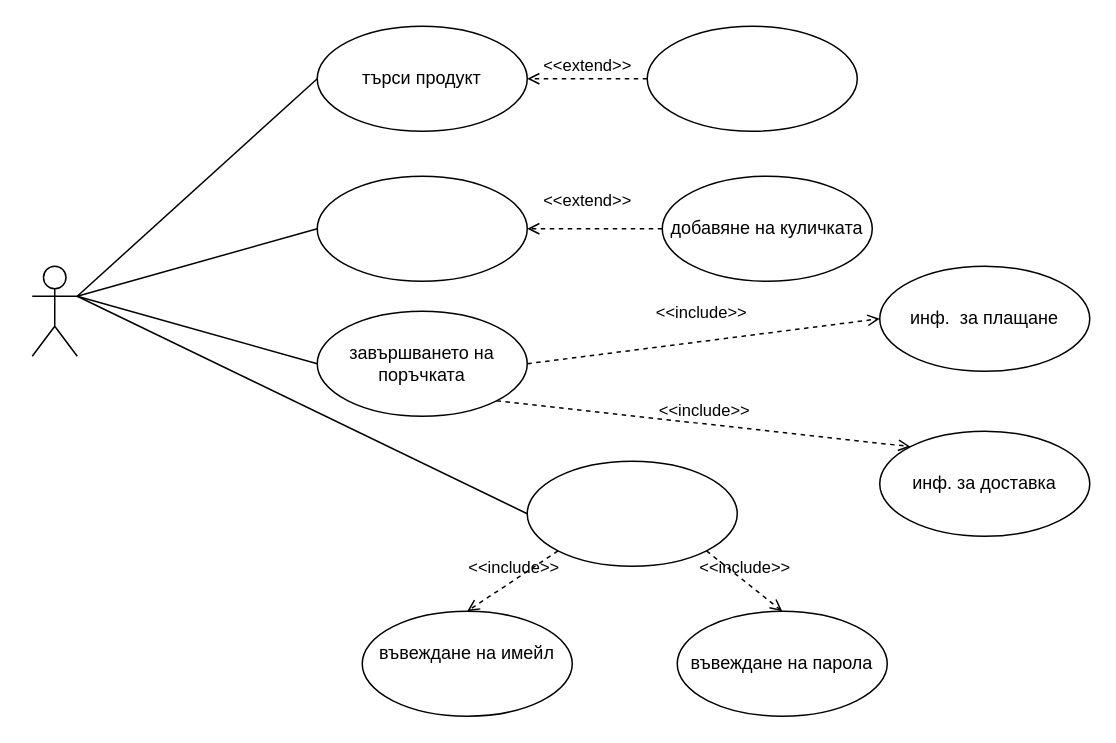
Some shapes in this 1116 by 743 pixel diagram are drawn without their labels. Here are the shapes that lost their labels. From the top down, the centre of each, then its label:
point (751, 78): филтър за търсене
point (421, 228): разглеждам продуктова страница
point (54, 310): клиент
point (631, 513): създаване на профил
